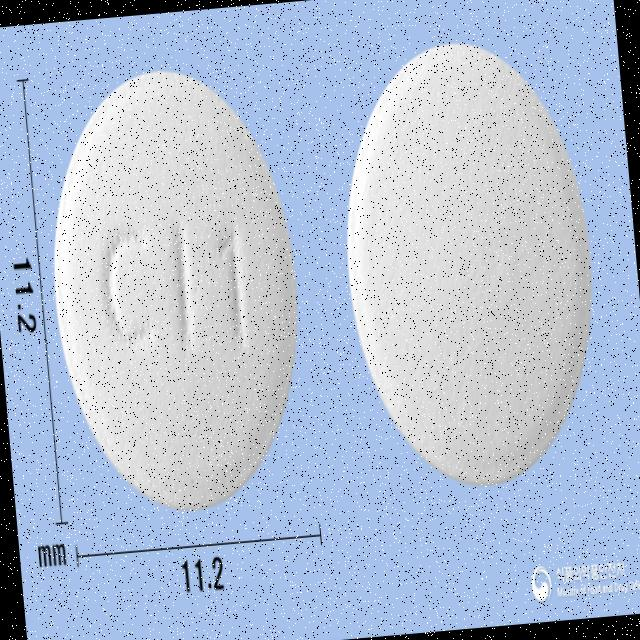Ciprocell: (327, 29, 614, 505), (34, 56, 320, 530)
